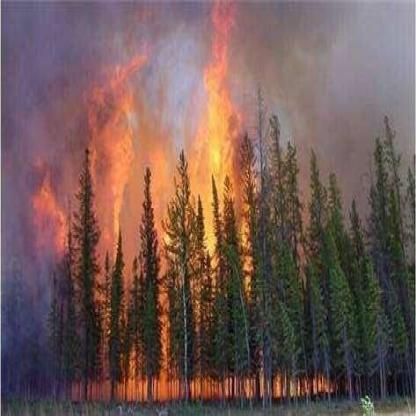fire: (21, 4, 334, 400)
